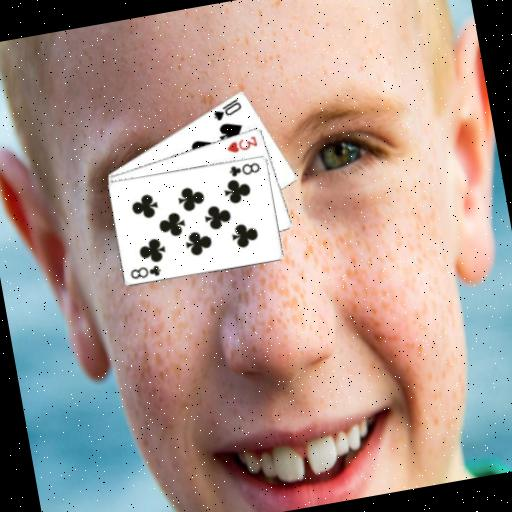10S: (208, 94, 245, 122)
3H: (222, 132, 259, 155)
8C: (225, 158, 262, 179), (126, 260, 163, 281)
